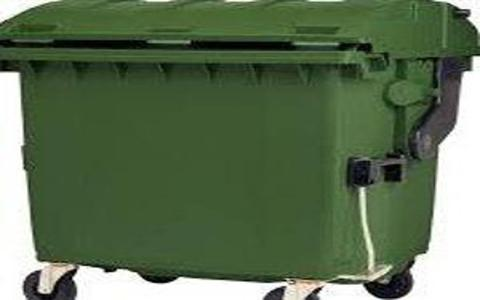Proper garbage: (3, 3, 478, 300)
